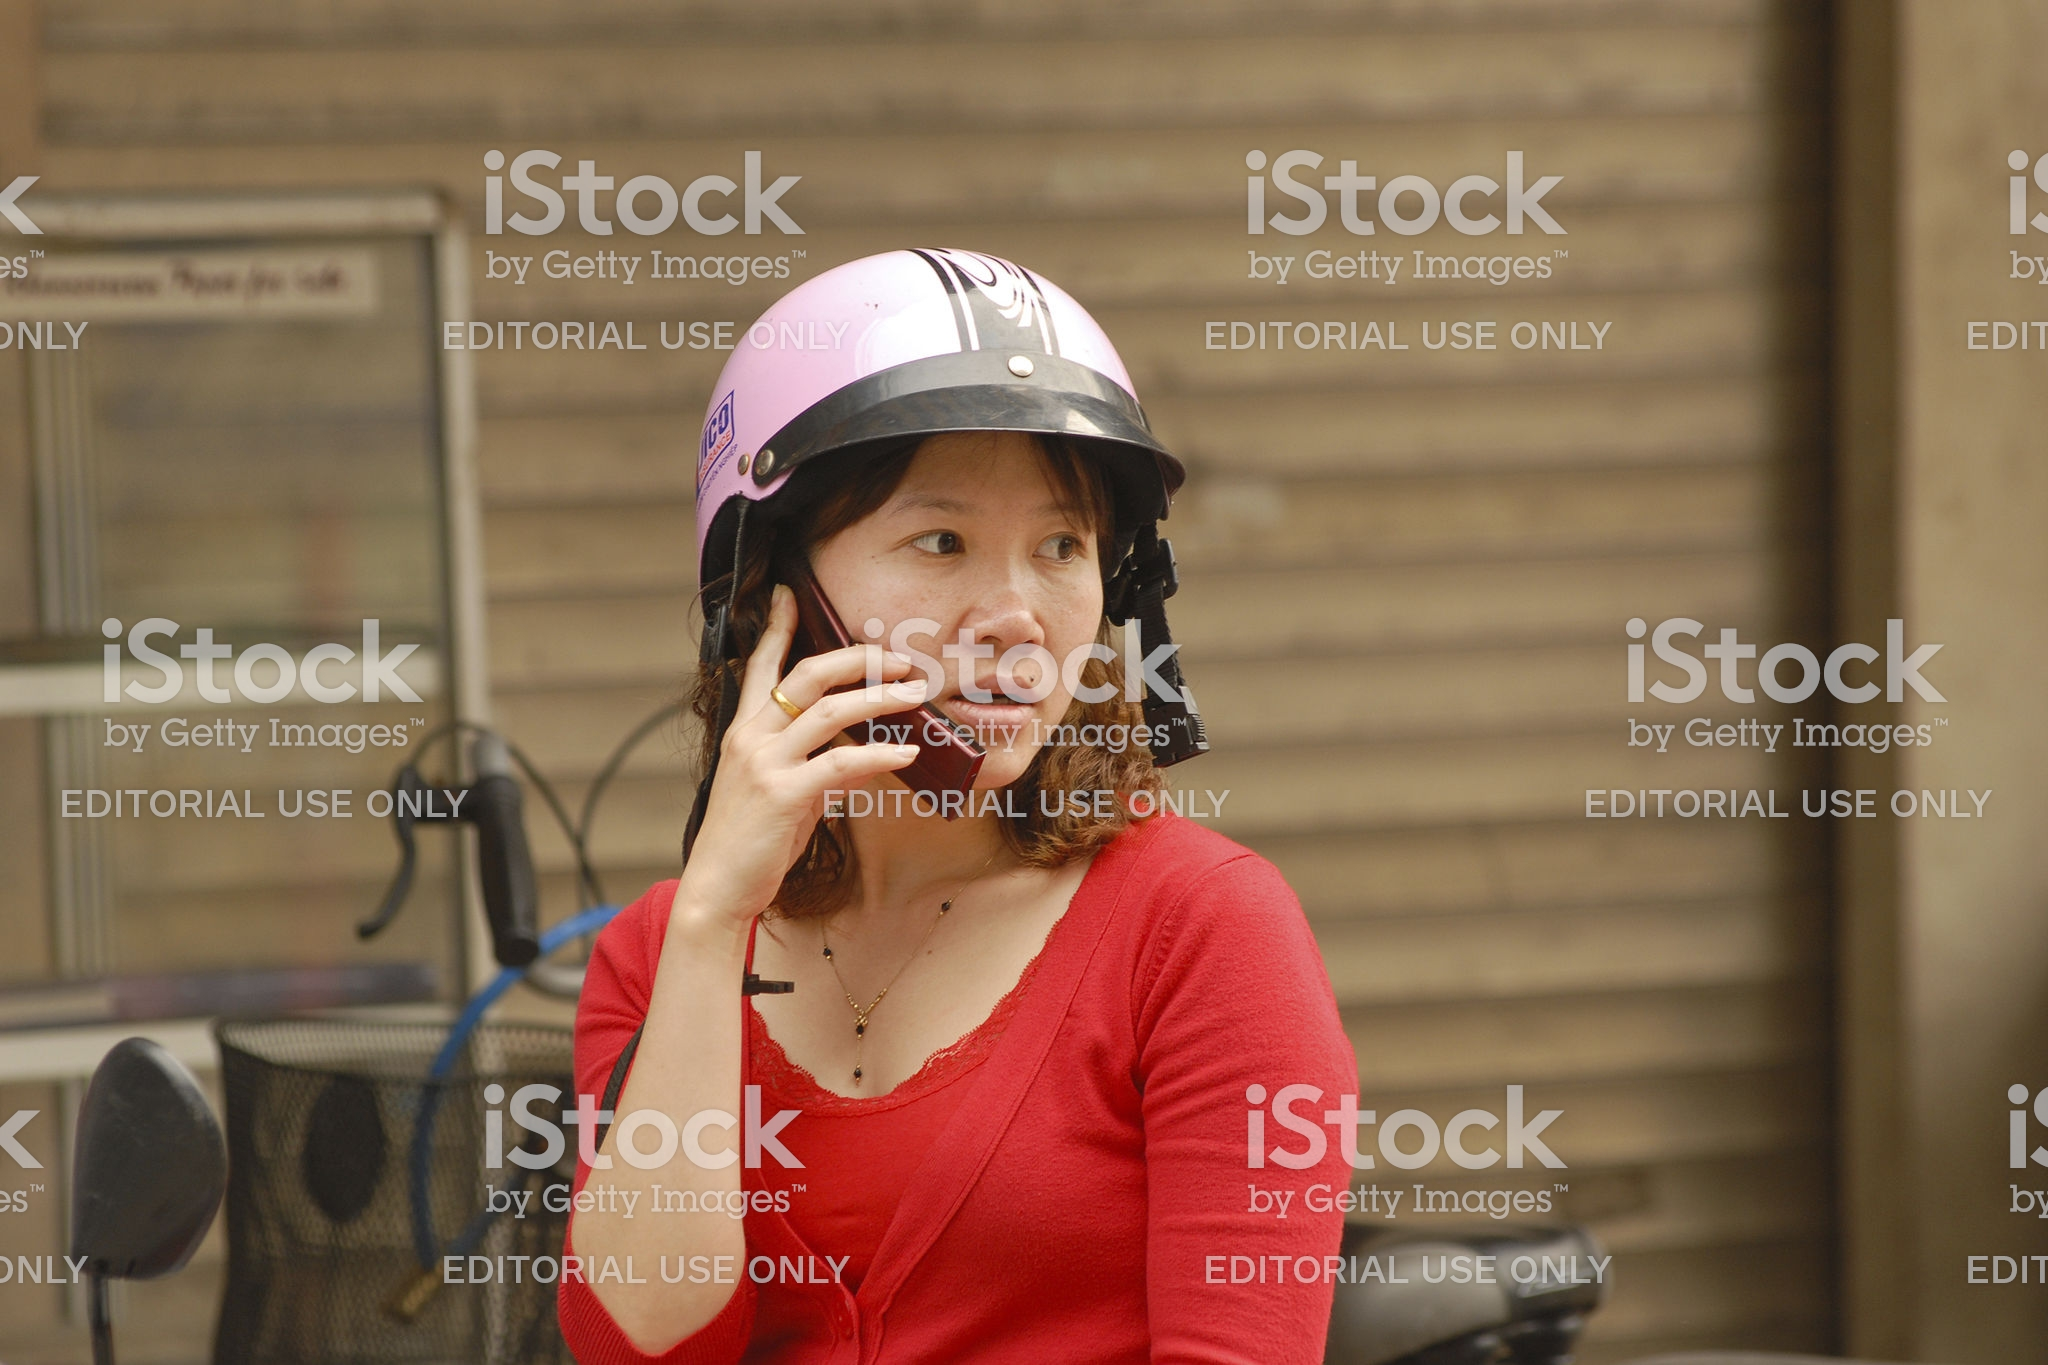helmet: (636, 241, 1159, 548)
